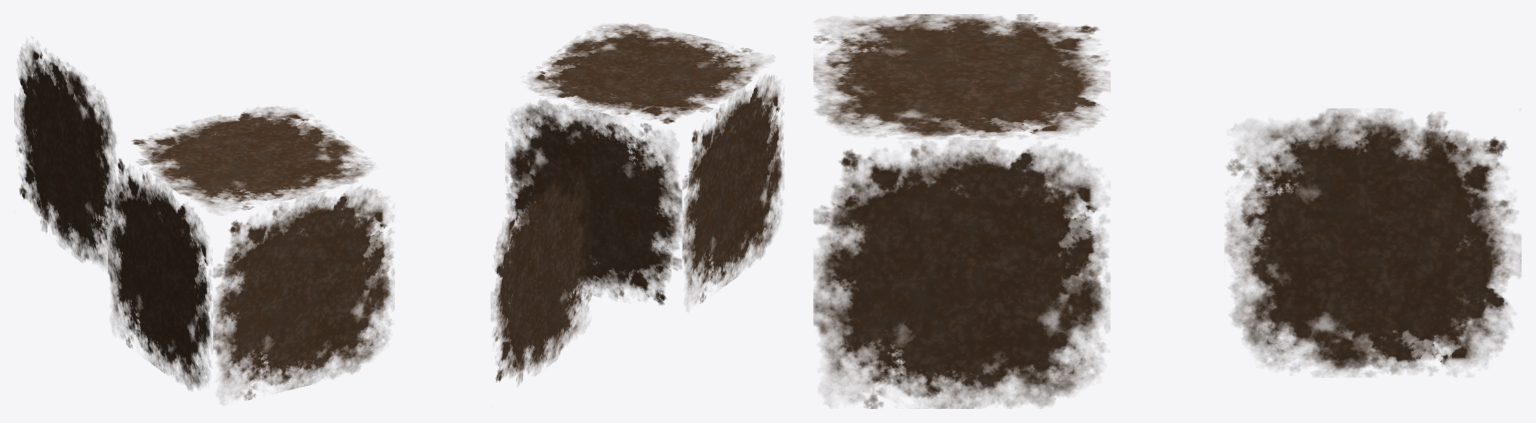
Rendered from obj_OpacityTest_Ziriax.gltf.
3 renders of one model, left to right at view 1: azimuth 30°, elevation 25°; view 2: azimuth 150°, elevation 25°; view 3: azimuth 270°, elevation 25°, orthographic. The views are drawn at different scales.
Parts seen in each view (by area): view 1: pCube2Shape; view 2: pCube2Shape; view 3: pCube2Shape.
Boxes of the visible parts, bbox=[...] form: pCube2Shape: bbox=[14, 42, 394, 400]; pCube2Shape: bbox=[491, 24, 783, 385]; pCube2Shape: bbox=[813, 14, 1521, 408].
Size of the model in its own units: 1 by 1.04 by 2.38.
Materials: 1 (1 with a texture image).
